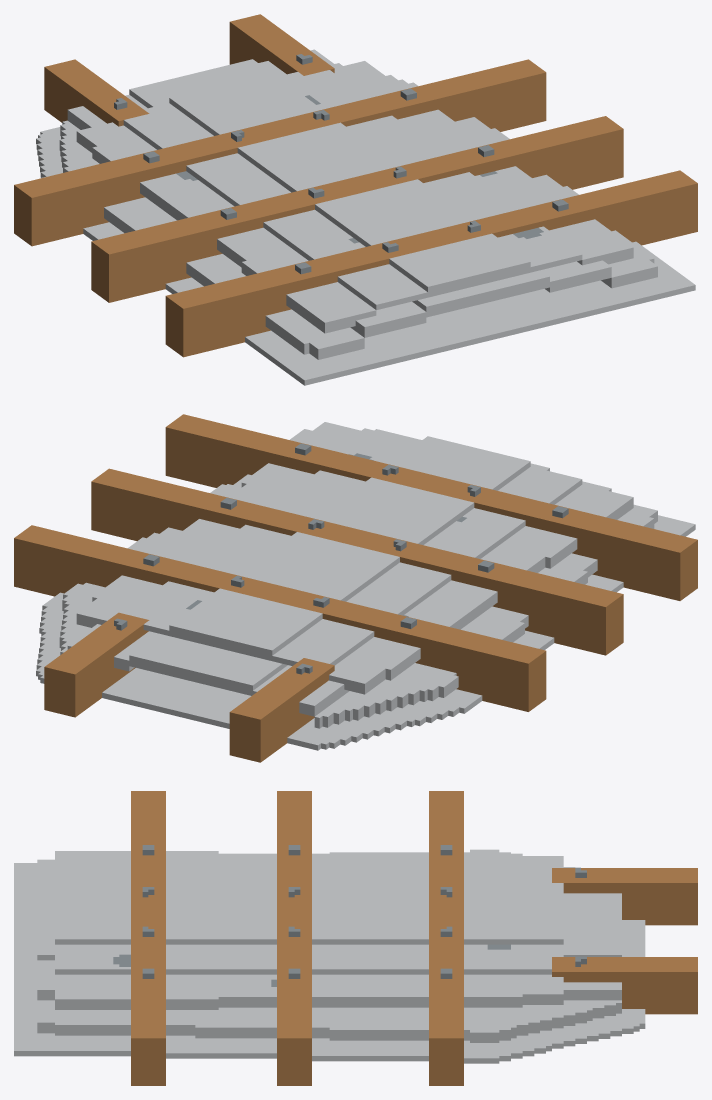
Rendered from chestguard_metal_sheets_heavy.glb.
The picture shows the model from 3 angles, top to bottom: view 1: azimuth 30°, elevation 25°; view 2: azimuth 150°, elevation 25°; view 3: azimuth 270°, elevation 25°; orthographic projection.
Visible parts, largest first — view 1: chestguard_metal_sheets_heavy:compound; view 2: chestguard_metal_sheets_heavy:compound; view 3: chestguard_metal_sheets_heavy:compound.
Part boxes in pixels (box(x1,y1,x2,y2)): chestguard_metal_sheets_heavy:compound: box(14, 14, 697, 385); chestguard_metal_sheets_heavy:compound: box(14, 414, 697, 762); chestguard_metal_sheets_heavy:compound: box(14, 791, 697, 1085).
Bounding box in the file's own units: 0.6 × 0.06 × 0.702.
